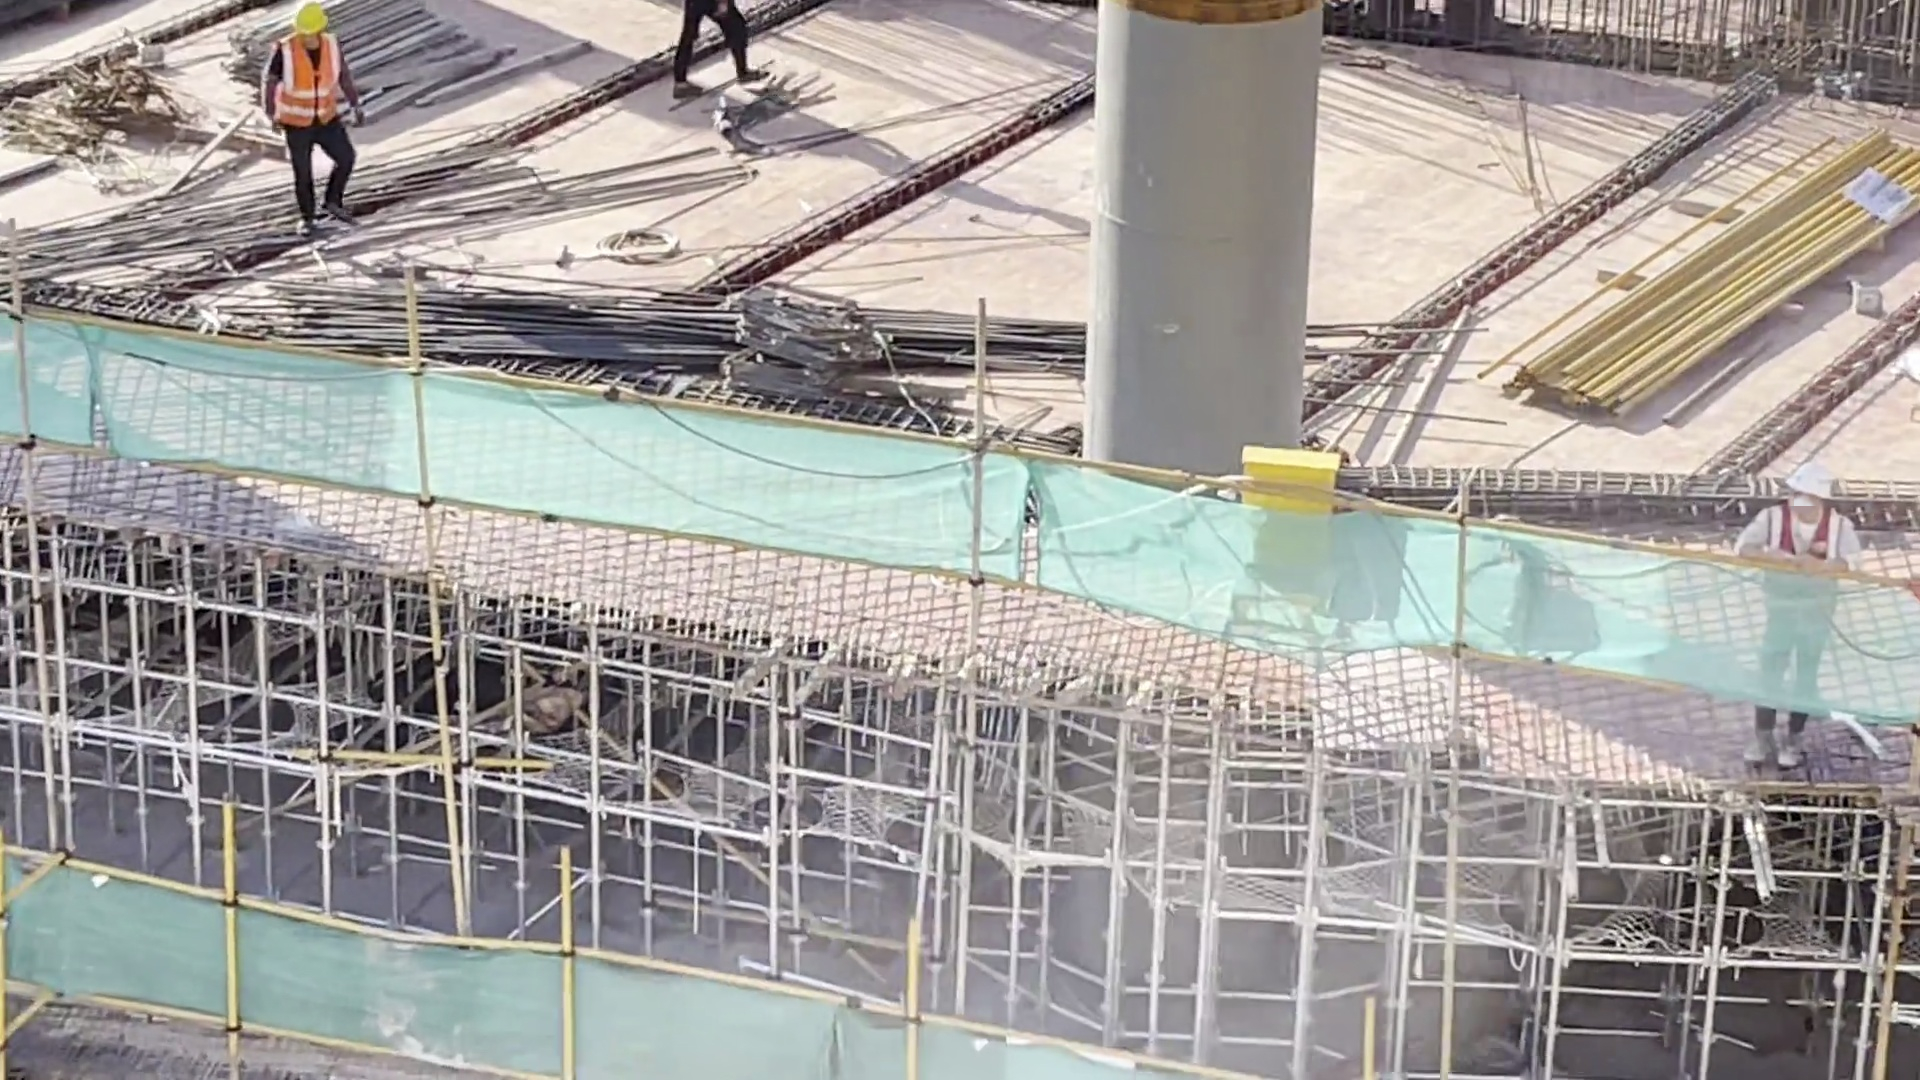helmet: (1786, 464, 1844, 498), (285, 4, 333, 31)
person: (1739, 460, 1865, 765), (242, 1, 375, 226)
vest: (1755, 512, 1850, 635), (267, 37, 353, 127)
